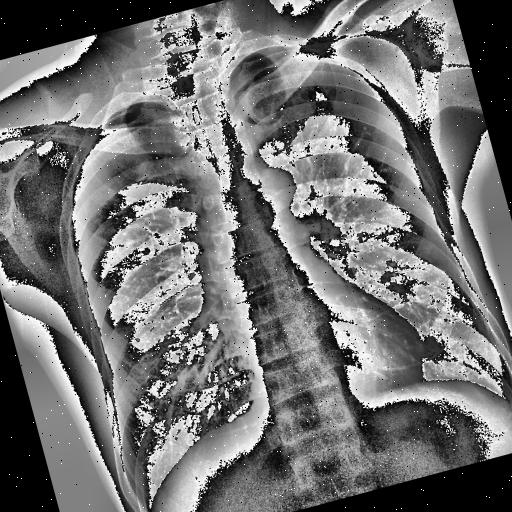0- Aortic enlargement: (234, 160, 302, 216), (243, 160, 302, 214)
11- Pleural thickening: (104, 102, 134, 119)
2- Calcification: (300, 113, 474, 359), (96, 212, 248, 446)
8- Nodule-Mass: (292, 106, 474, 362), (90, 209, 262, 455), (83, 198, 248, 454), (334, 178, 490, 380)
